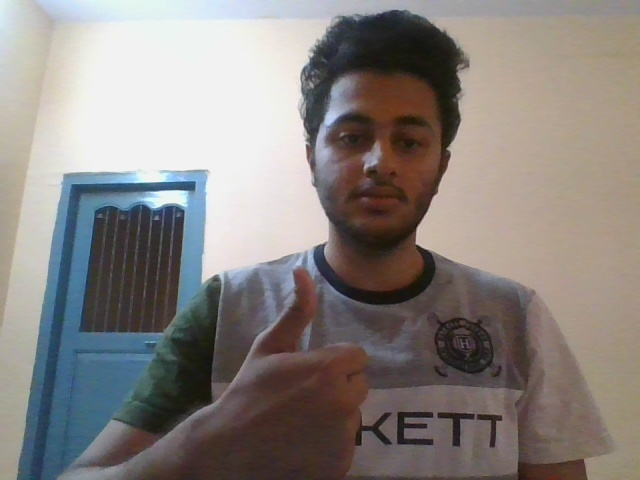Thumbsup: (212, 264, 374, 480)
